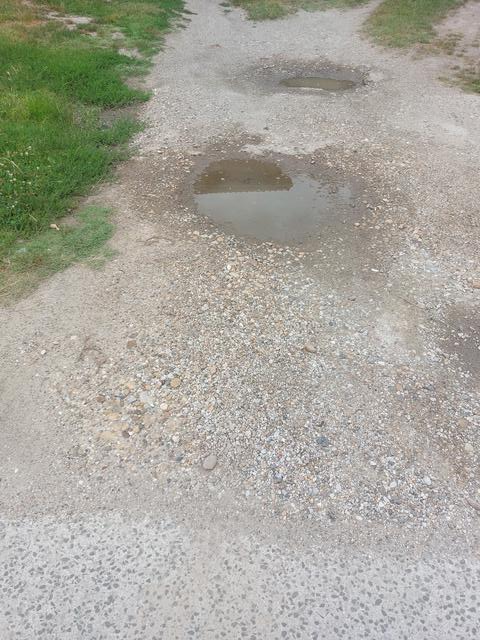pothole: (177, 152, 363, 252), (241, 43, 378, 102)
